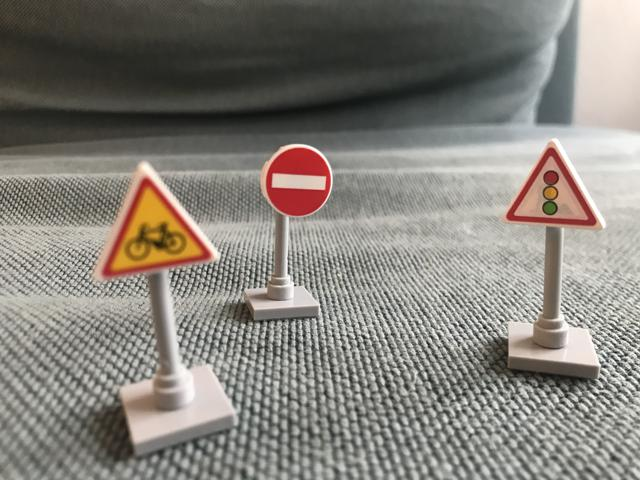lichtzeichenanlage: (506, 139, 606, 231)
radfahrer: (94, 160, 225, 281)
verbot der einfahrt: (258, 142, 336, 220)
